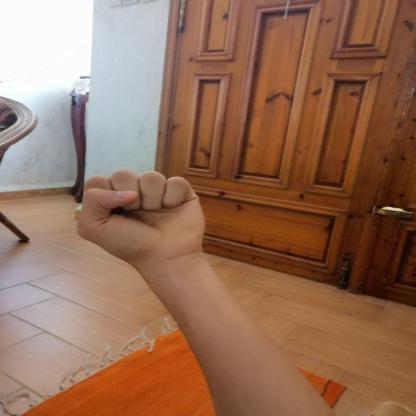SAD: (60, 161, 223, 274)
